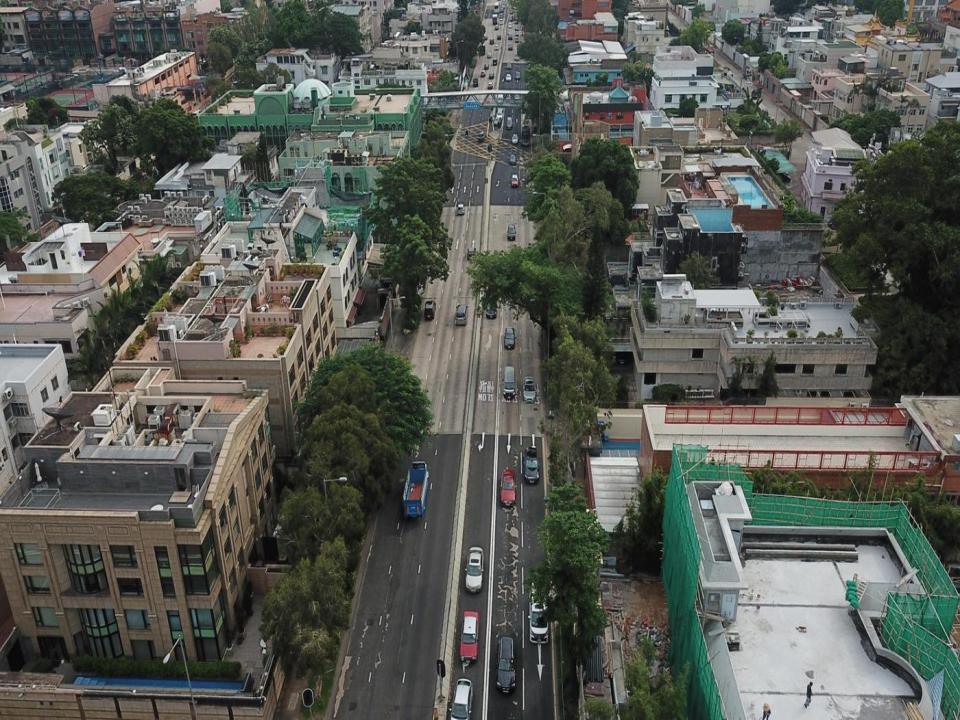bus: (520, 108, 531, 146), (494, 2, 500, 13), (500, 13, 504, 24)
car: (460, 610, 479, 662), (449, 678, 473, 719), (465, 546, 484, 592), (500, 468, 516, 506), (524, 446, 540, 482), (524, 376, 536, 402), (503, 327, 515, 350), (486, 291, 496, 318), (507, 223, 516, 240), (457, 201, 465, 217), (493, 116, 503, 126), (511, 172, 518, 185), (468, 247, 475, 260), (509, 154, 516, 166), (512, 132, 518, 144), (478, 129, 484, 141), (514, 70, 520, 80), (506, 61, 512, 70), (497, 108, 503, 117), (501, 3, 507, 11), (488, 81, 493, 89), (481, 69, 486, 77), (515, 51, 520, 59), (501, 8, 506, 16), (506, 74, 511, 81), (484, 63, 489, 70), (490, 71, 494, 79), (494, 42, 498, 50), (514, 30, 518, 37), (497, 34, 501, 40), (508, 21, 512, 27), (490, 37, 493, 45), (488, 51, 491, 58), (514, 36, 518, 41), (494, 25, 498, 30)
truck: (402, 460, 430, 519), (492, 12, 498, 24)
van: (496, 636, 517, 698), (528, 582, 549, 643), (503, 367, 516, 401), (455, 304, 468, 326), (424, 300, 438, 320), (507, 117, 513, 128), (472, 77, 478, 86), (492, 57, 497, 64), (508, 31, 512, 39), (508, 43, 512, 50)
